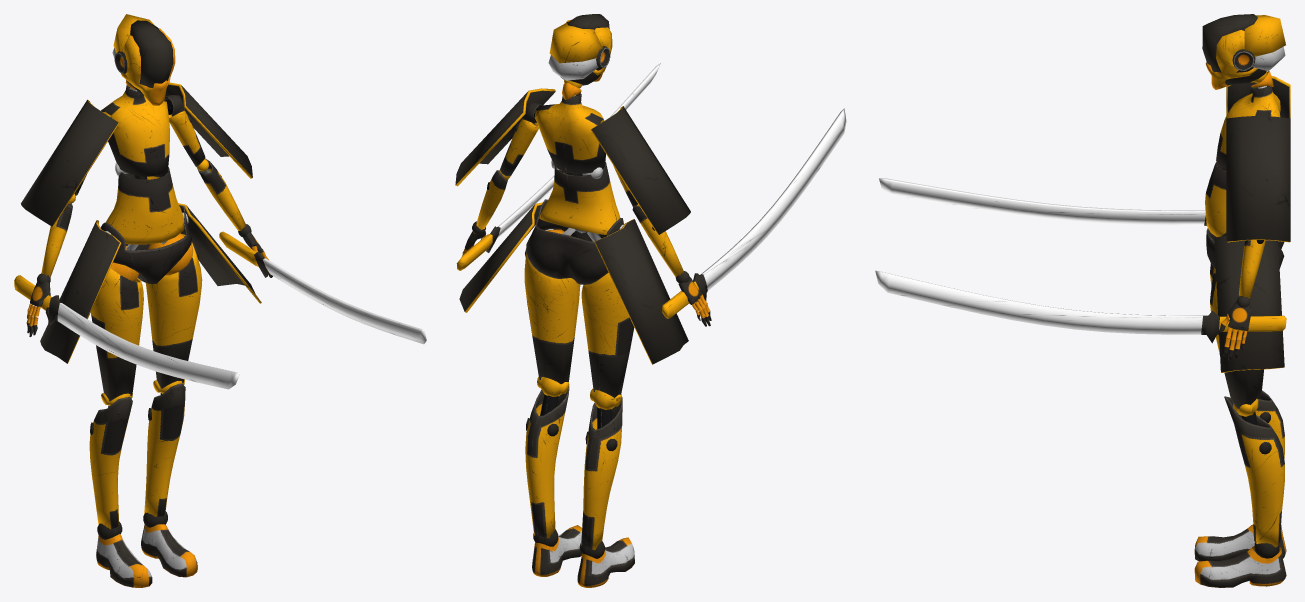
Rendered from picachan 2(after rig)(SAMURAI VER).obj.
The picture shows the model from 3 angles, left to right: view 1: azimuth 30°, elevation 25°; view 2: azimuth 150°, elevation 25°; view 3: azimuth 270°, elevation 25°; orthographic projection. The views are drawn at different scales.
Parts seen in each view (by area): view 1: Sphere.001; view 2: Sphere.001; view 3: Sphere.001.
Part boxes in pixels (x1,y1,x2,y2): Sphere.001: [14, 14, 426, 587]; Sphere.001: [455, 14, 846, 587]; Sphere.001: [875, 14, 1290, 587].
Size of the model in its own units: 0.9126 by 1.94 by 1.32.
1 material, 1 textured.
